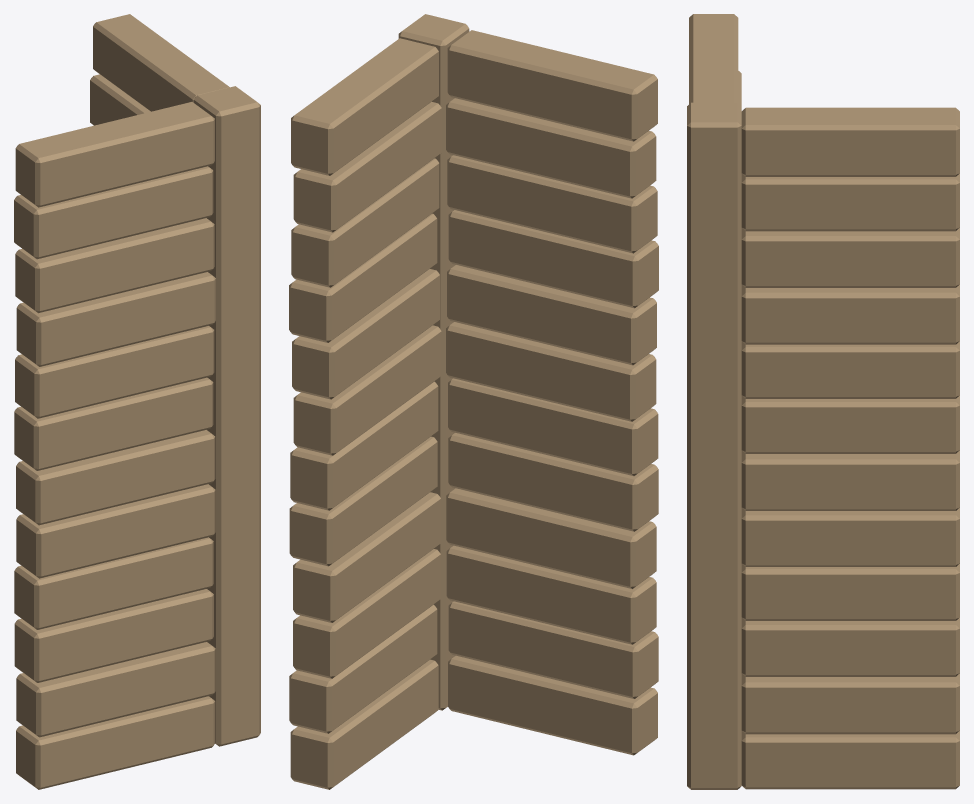
File: corner_inner.glb
3 renders of one model, left to right at view 1: azimuth 30°, elevation 25°; view 2: azimuth 150°, elevation 25°; view 3: azimuth 270°, elevation 25°, orthographic. The views are drawn at different scales.
Visible parts, largest first — view 1: corner_inner; view 2: corner_inner; view 3: corner_inner.
Boxes of the visible parts, x1,y1,x2,y2 form: corner_inner: (14,14,260,789); corner_inner: (289,14,658,789); corner_inner: (687,14,959,789).
Bounding box in the file's own units: 1 × 2.7 × 1.
